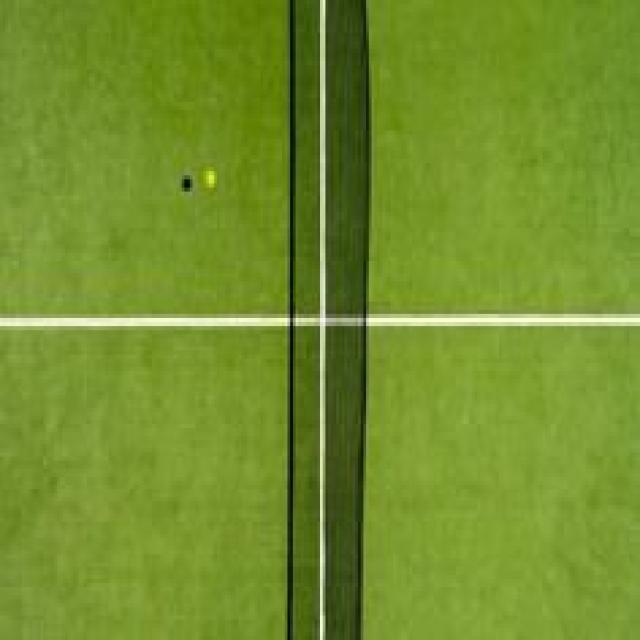tennis: (204, 169, 220, 194)
